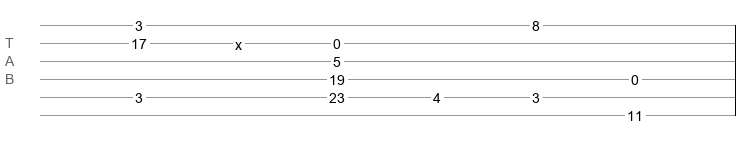0: (333, 36, 341, 46), (631, 72, 639, 82)
11: (627, 108, 643, 118)
17: (131, 36, 147, 46)
19: (329, 72, 345, 82)
23: (329, 90, 345, 100)
3: (135, 90, 143, 100), (135, 18, 143, 28), (532, 90, 540, 100)
4: (433, 90, 441, 100)
5: (333, 54, 341, 64)
8: (532, 18, 540, 28)
x: (235, 37, 242, 45)
